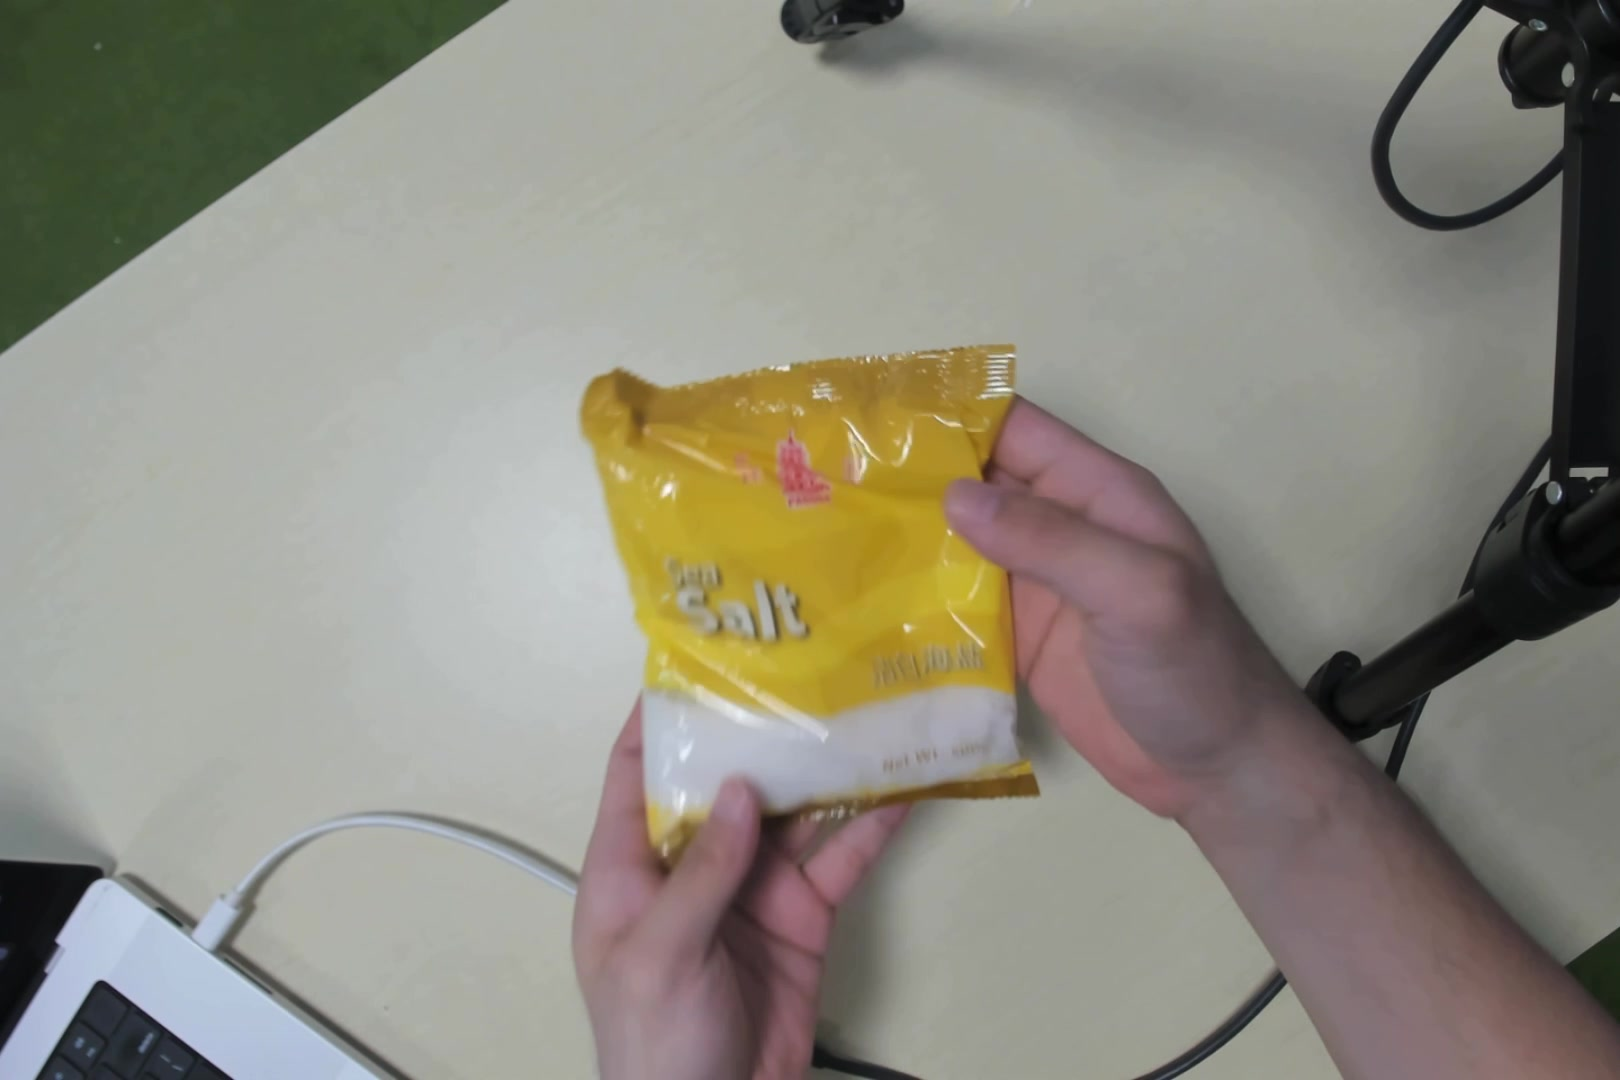Salt_500-599g_Halal_NonHealthy: (629, 362, 1034, 812)
